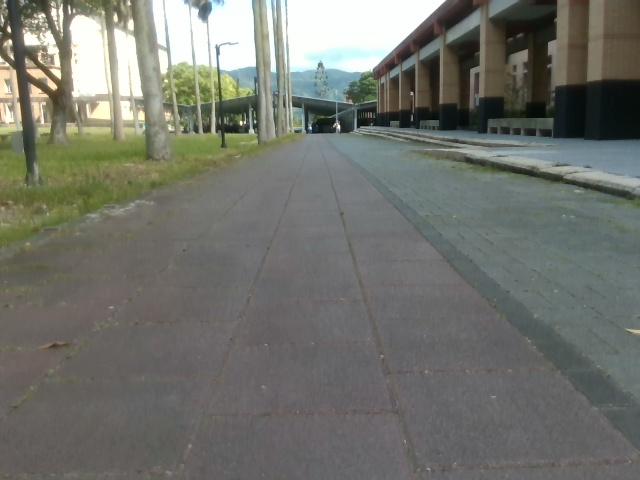grass: (0, 0, 257, 184), (0, 128, 302, 249), (301, 65, 376, 103)
road: (0, 133, 639, 479)
sidewalk: (355, 127, 639, 198)
